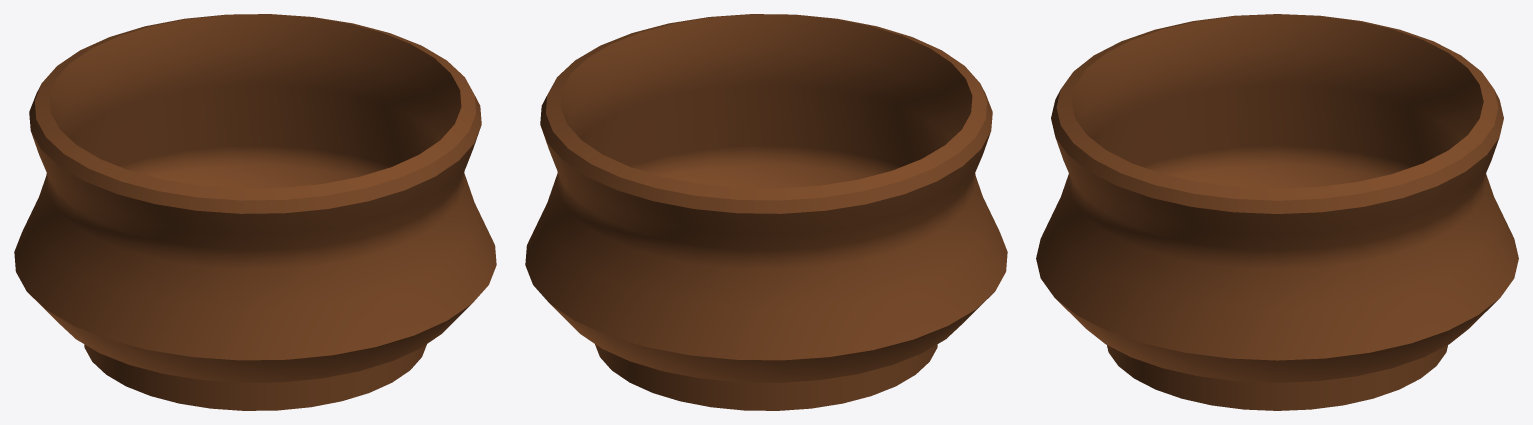
The model's file is TazonSal.fbx.
The picture shows the model from 3 angles, left to right: view 1: azimuth 30°, elevation 25°; view 2: azimuth 150°, elevation 25°; view 3: azimuth 270°, elevation 25°; orthographic projection.
Visible parts, largest first — view 1: Cylinder.002; view 2: Cylinder.002; view 3: Cylinder.002.
Boxes of the visible parts, x1,y1,x2,y2 form: Cylinder.002: (14, 14, 496, 410); Cylinder.002: (525, 14, 1007, 410); Cylinder.002: (1036, 14, 1518, 410).
Bounding box in the file's own units: 83.3 × 45.02 × 83.3.
